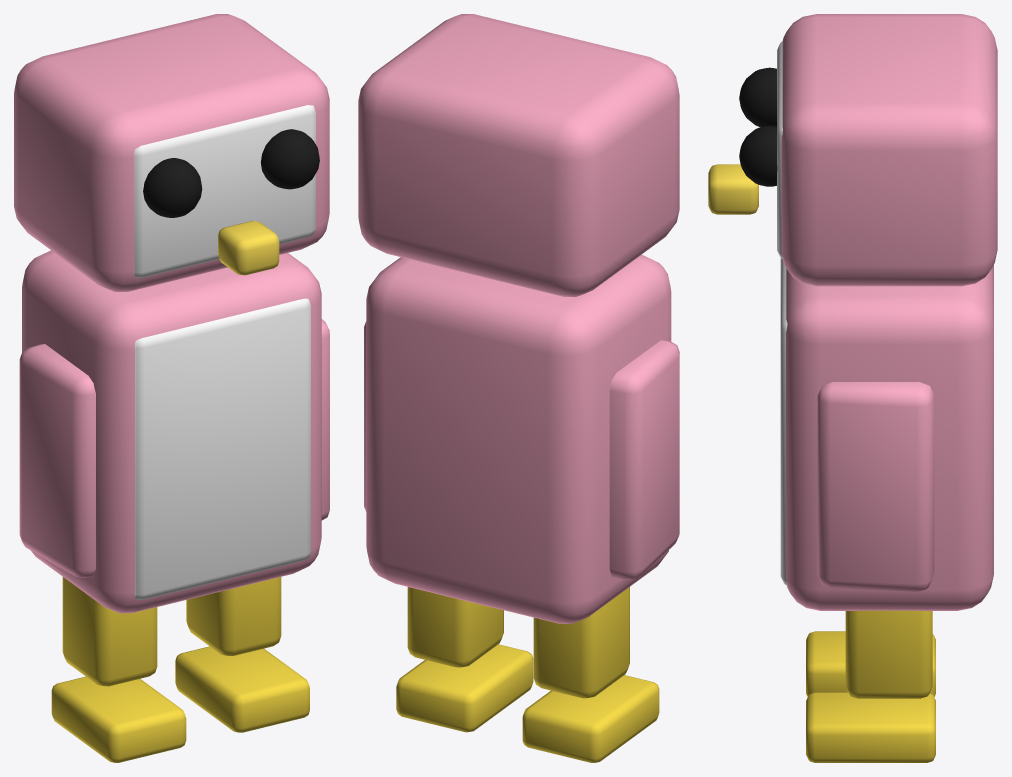
File: Penguin_Pink.glb
3 renders of one model, left to right at view 1: azimuth 30°, elevation 25°; view 2: azimuth 150°, elevation 25°; view 3: azimuth 270°, elevation 25°, orthographic.
Parts seen in each view (by area): view 1: Penguin_Pink; view 2: Penguin_Pink; view 3: Penguin_Pink.
Part boxes in pixels (left/top/right/bottom): Penguin_Pink: left=14, top=14, right=329, bottom=762; Penguin_Pink: left=358, top=14, right=679, bottom=762; Penguin_Pink: left=708, top=14, right=997, bottom=762.
Size of the model in its own units: 0.8797 by 2 by 0.8.
